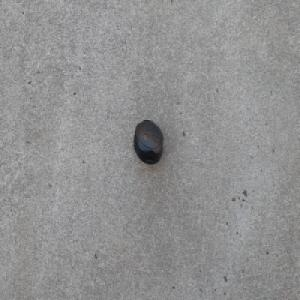FuelCap: (133, 118, 164, 165)
